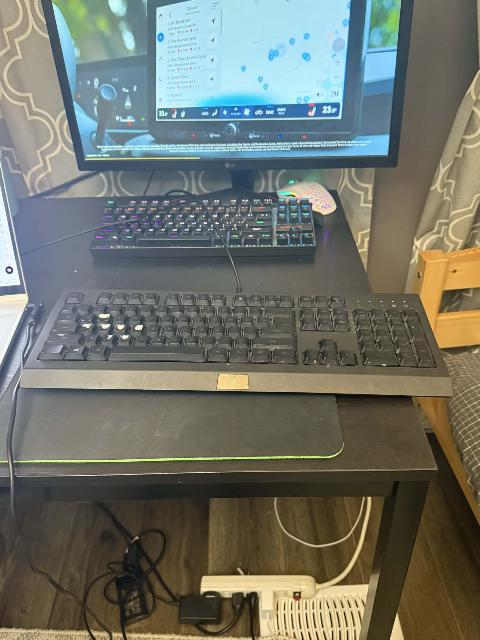ahkeyboard: (16, 280, 458, 402)
